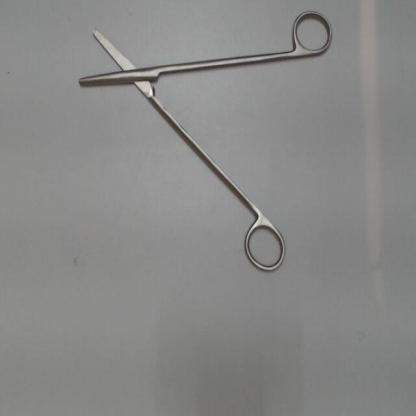9 Metzenbaum Scissors: (76, 5, 339, 278)
